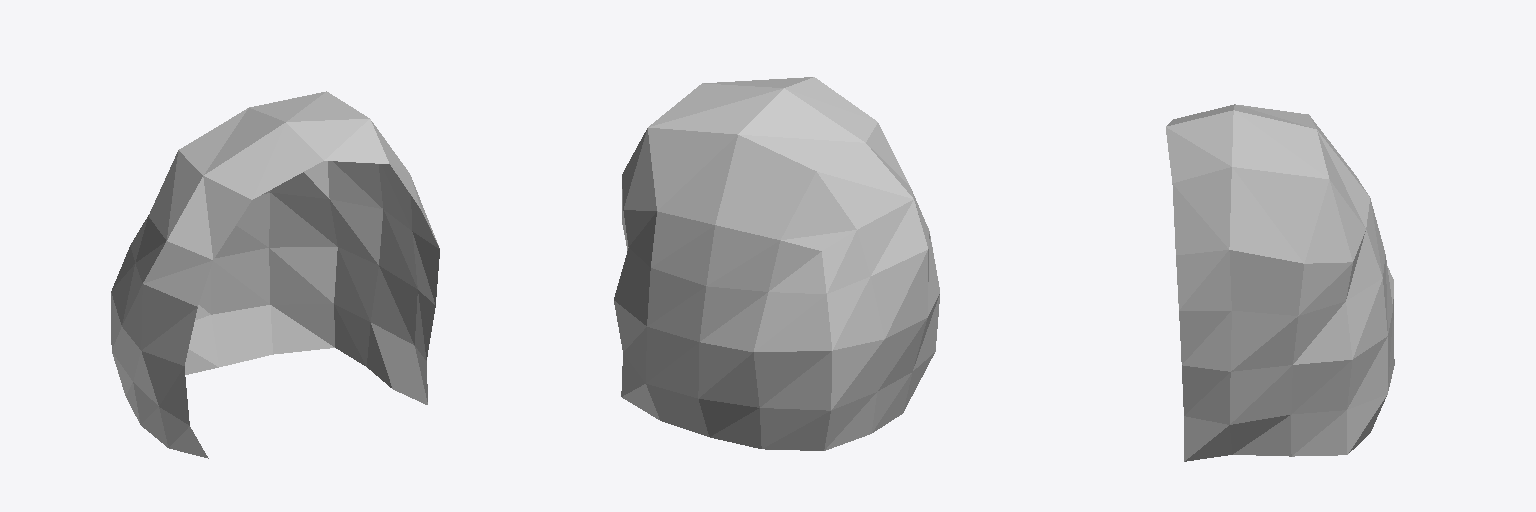
The model's file is cavewall2pCube2.OBJ.
3 renders of one model, left to right at view 1: azimuth 30°, elevation 25°; view 2: azimuth 150°, elevation 25°; view 3: azimuth 270°, elevation 25°, orthographic.
Parts seen in each view (by area): view 1: ZBrush_defualt_group; view 2: ZBrush_defualt_group; view 3: ZBrush_defualt_group.
Part boxes in pixels (bbox=[...]): ZBrush_defualt_group: bbox=[111, 91, 439, 458]; ZBrush_defualt_group: bbox=[614, 77, 939, 450]; ZBrush_defualt_group: bbox=[1166, 104, 1394, 461].
Bounding box in the file's own units: 122 × 126 × 88.